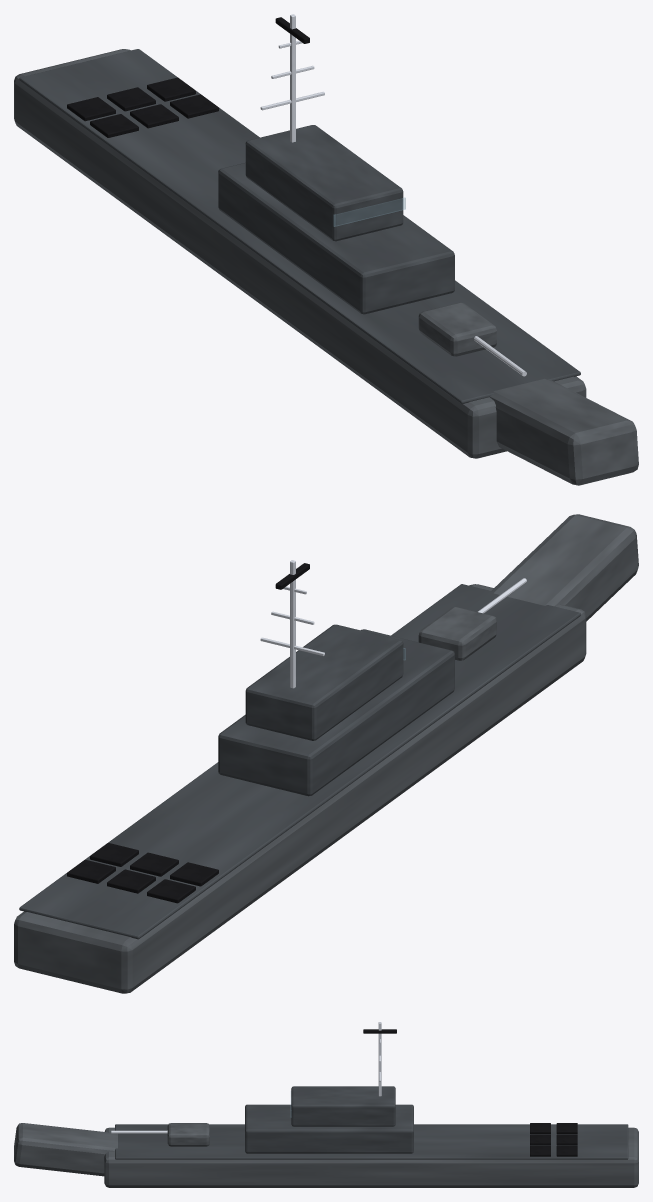
The model's file is ship_destroyer.glb.
3 views of the same model, one above another, from view 1: azimuth 30°, elevation 25°; view 2: azimuth 150°, elevation 25°; view 3: azimuth 270°, elevation 25° (orthographic). The views are drawn at different scales.
Visible parts, largest first — view 1: ship_destroyer_deckplate, ship_destroyer_hull, ship_destroyer_sup1, ship_destroyer_sup2, ship_destroyer_bow, ship_destroyer_turret, ship_destroyer_bridge_glass, ship_destroyer_vls_2_1, ship_destroyer_vls_1_0, ship_destroyer_vls_2_0, ship_destroyer_vls_0_0, ship_destroyer_vls_0_1 (+2 smaller); view 2: ship_destroyer_hull, ship_destroyer_deckplate, ship_destroyer_sup1, ship_destroyer_sup2, ship_destroyer_bow, ship_destroyer_turret, ship_destroyer_vls_0_0, ship_destroyer_vls_0_1, ship_destroyer_vls_1_0, ship_destroyer_vls_1_1, ship_destroyer_vls_2_0, ship_destroyer_vls_2_1 (+1 smaller); view 3: ship_destroyer_hull, ship_destroyer_deckplate, ship_destroyer_sup1, ship_destroyer_bow, ship_destroyer_sup2, ship_destroyer_turret, ship_destroyer_vls_1_1, ship_destroyer_vls_2_1, ship_destroyer_mast.
Part boxes in pixels (left/top/right/bottom): ship_destroyer_deckplate: left=19, top=49, right=580, bottom=403; ship_destroyer_hull: left=14, top=49, right=586, bottom=458; ship_destroyer_sup1: left=218, top=162, right=454, bottom=314; ship_destroyer_sup2: left=245, top=125, right=403, bottom=241; ship_destroyer_bow: left=490, top=378, right=638, bottom=485; ship_destroyer_turret: left=418, top=302, right=496, bottom=356; ship_destroyer_bridge_glass: left=333, top=197, right=405, bottom=226; ship_destroyer_vls_2_1: left=147, top=77, right=195, bottom=101; ship_destroyer_vls_1_0: left=130, top=104, right=178, bottom=128; ship_destroyer_vls_2_0: left=170, top=94, right=218, bottom=118; ship_destroyer_vls_0_0: left=90, top=114, right=138, bottom=137; ship_destroyer_vls_0_1: left=67, top=97, right=115, bottom=121; ship_destroyer_hull: left=14, top=584, right=586, bottom=993; ship_destroyer_deckplate: left=19, top=584, right=580, bottom=939; ship_destroyer_sup1: left=218, top=629, right=454, bottom=796; ship_destroyer_sup2: left=245, top=624, right=403, bottom=740; ship_destroyer_bow: left=491, top=514, right=638, bottom=621; ship_destroyer_turret: left=418, top=607, right=496, bottom=660; ship_destroyer_vls_0_0: left=170, top=862, right=218, bottom=886; ship_destroyer_vls_0_1: left=147, top=879, right=195, bottom=903; ship_destroyer_vls_1_0: left=130, top=852, right=178, bottom=876; ship_destroyer_vls_1_1: left=107, top=869, right=155, bottom=893; ship_destroyer_vls_2_0: left=90, top=843, right=138, bottom=866; ship_destroyer_vls_2_1: left=67, top=859, right=115, bottom=883; ship_destroyer_hull: left=104, top=1127, right=638, bottom=1187; ship_destroyer_deckplate: left=115, top=1124, right=628, bottom=1159; ship_destroyer_sup1: left=245, top=1104, right=413, bottom=1153; ship_destroyer_bow: left=14, top=1123, right=117, bottom=1176; ship_destroyer_sup2: left=291, top=1086, right=395, bottom=1126; ship_destroyer_turret: left=167, top=1123, right=209, bottom=1146; ship_destroyer_vls_1_1: left=556, top=1134, right=577, bottom=1145; ship_destroyer_vls_2_1: left=556, top=1145, right=577, bottom=1156; ship_destroyer_mast: left=378, top=1022, right=381, bottom=1096.
Bounding box in the file's own units: 5.71 × 11.8 × 44.42.
5 materials, 5 textured.
